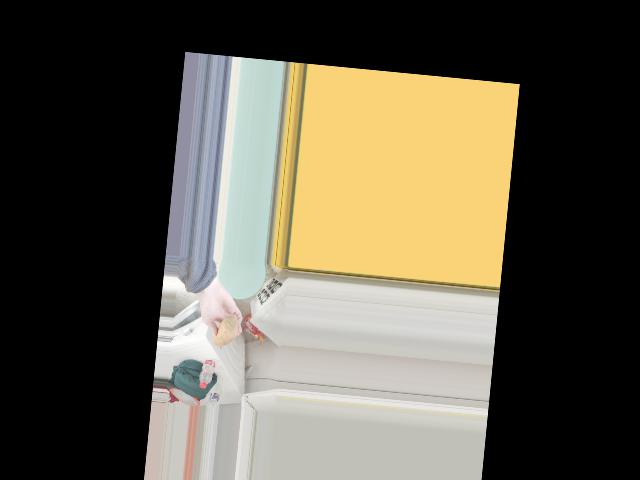sweet_potato: (213, 317, 238, 347)
